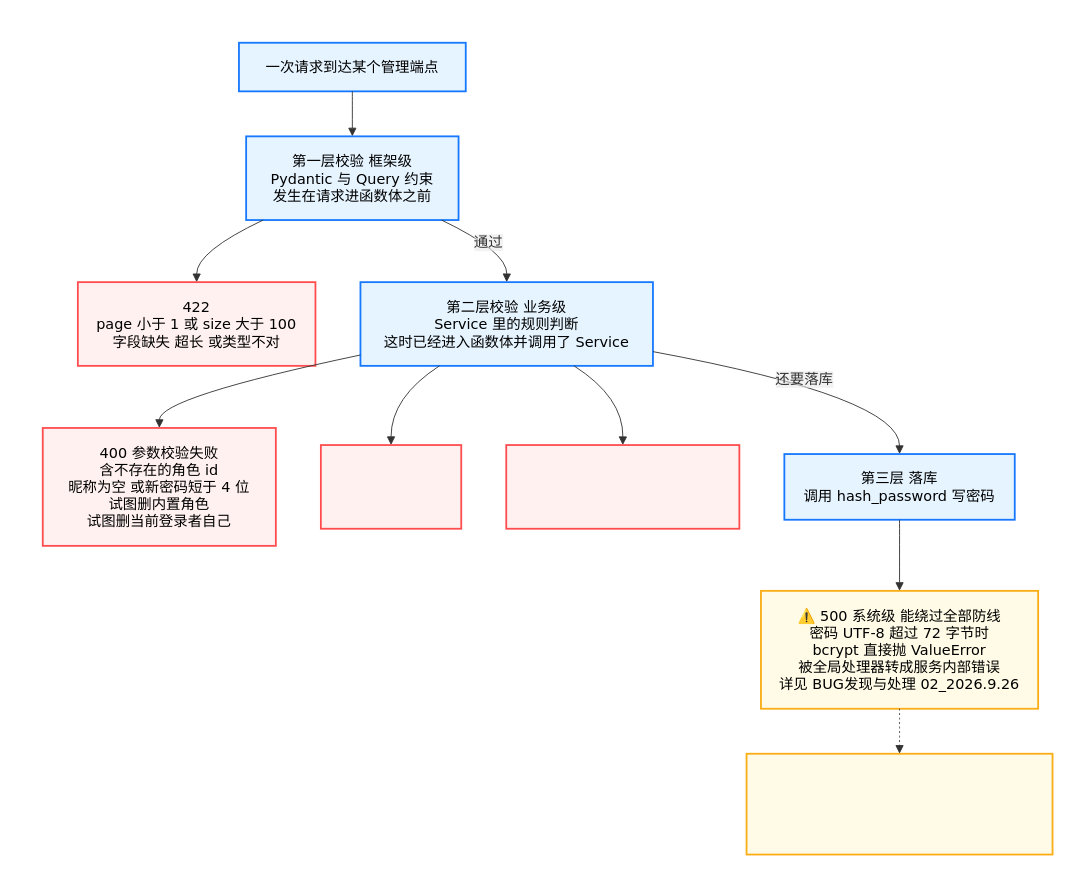
Some shapes in this 1068 by 870 pixel diagram are drawn without their labels. Each missing label, with the box of its shape:
404 资源不存在 user_id 找不到 由 ③⑤ 触发 role_id 找不到 由 ⑧⑨ 触发: (505, 444, 740, 529)
409 资源冲突 用户名已存在 角色名已存在: (320, 444, 462, 529)
为什么 500 是个暗区 上面两层校验只管长度与格式 没有任何一道管 UTF-8 的字节数 于是超长中文密码一路畅通 直达 bcrypt: (745, 752, 1053, 855)
